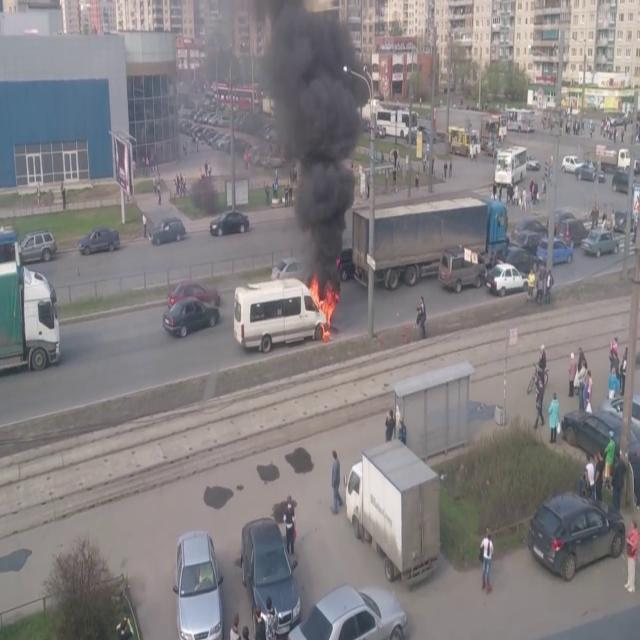Fire: (308, 274, 340, 334)
Smoke: (264, 2, 368, 277)
